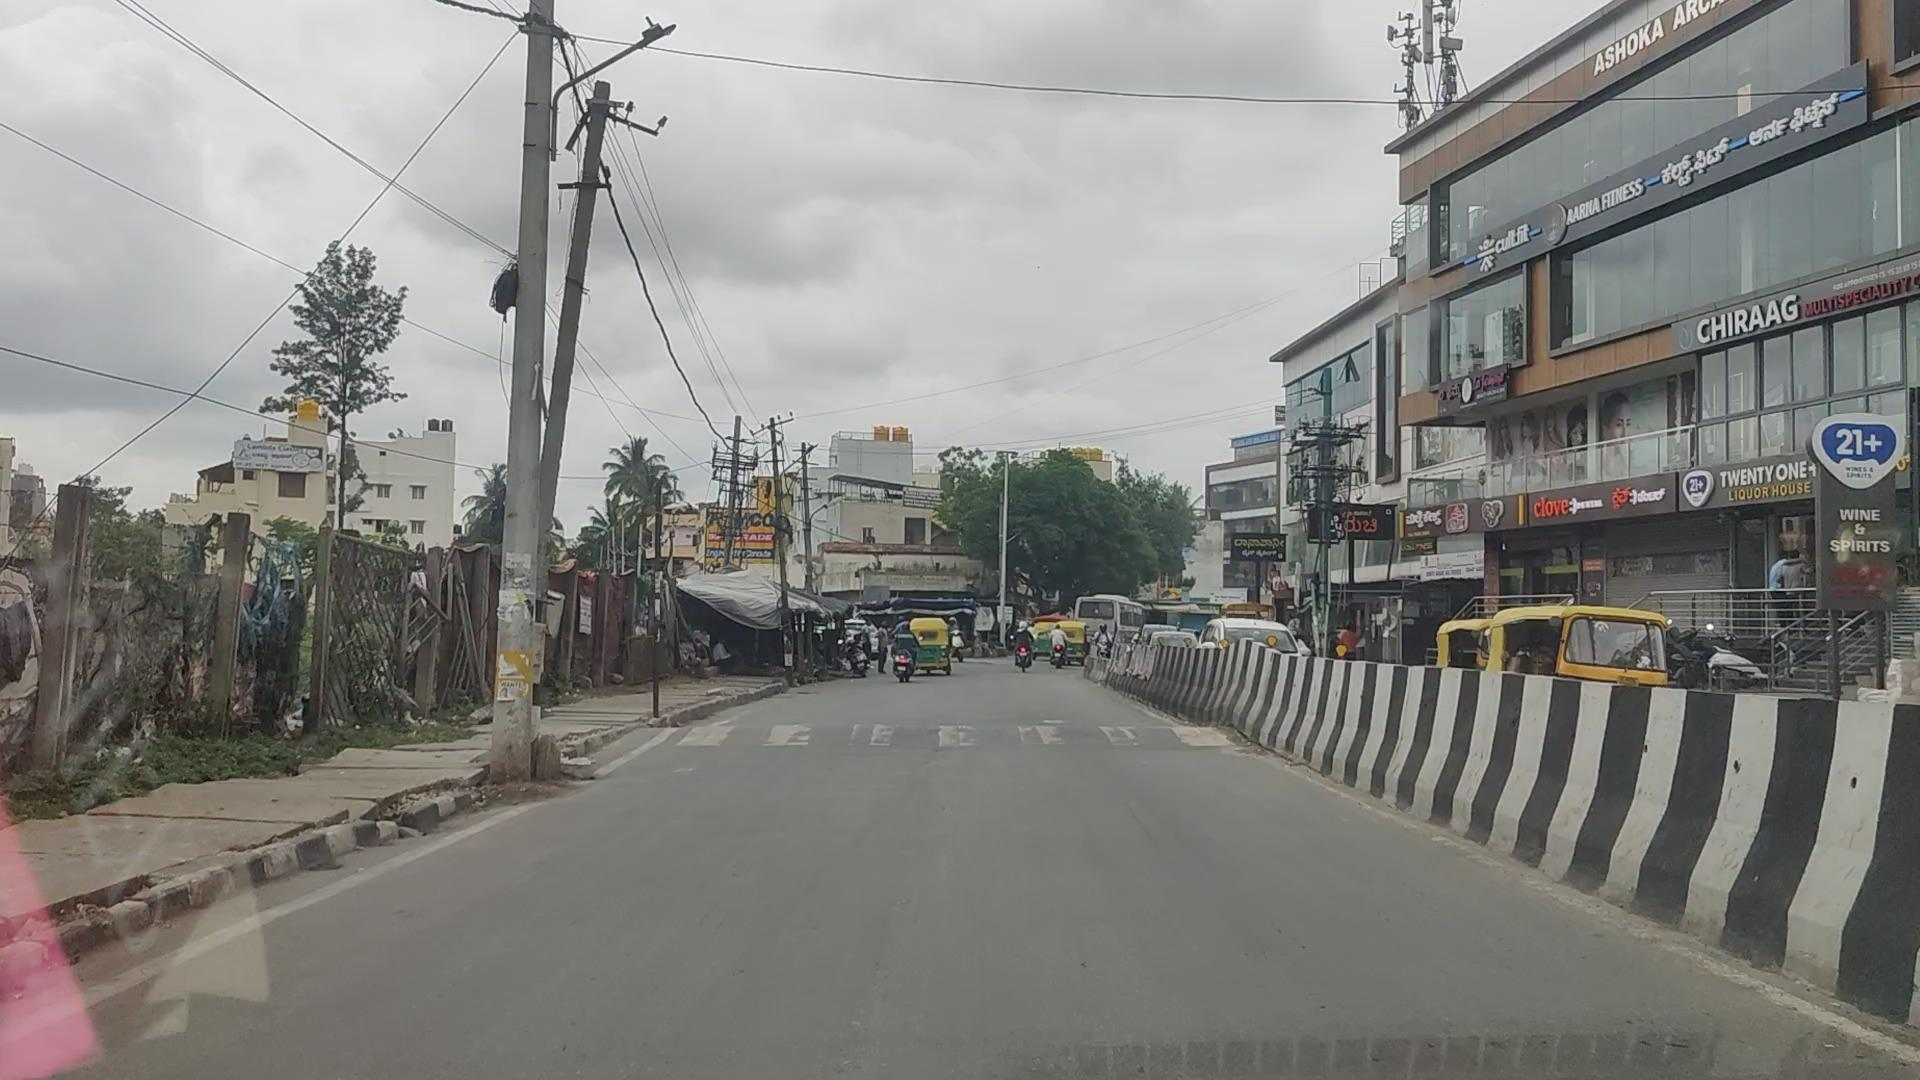SpeedBump: (646, 711, 1249, 760)
